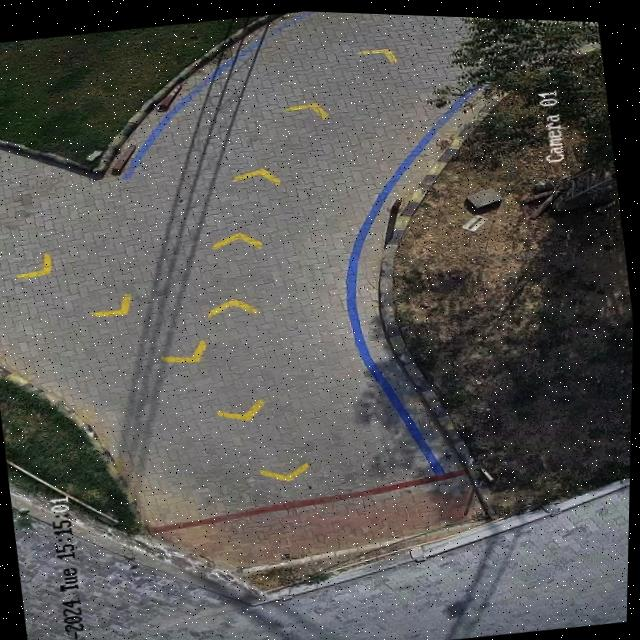No Car: (0, 9, 635, 640)
